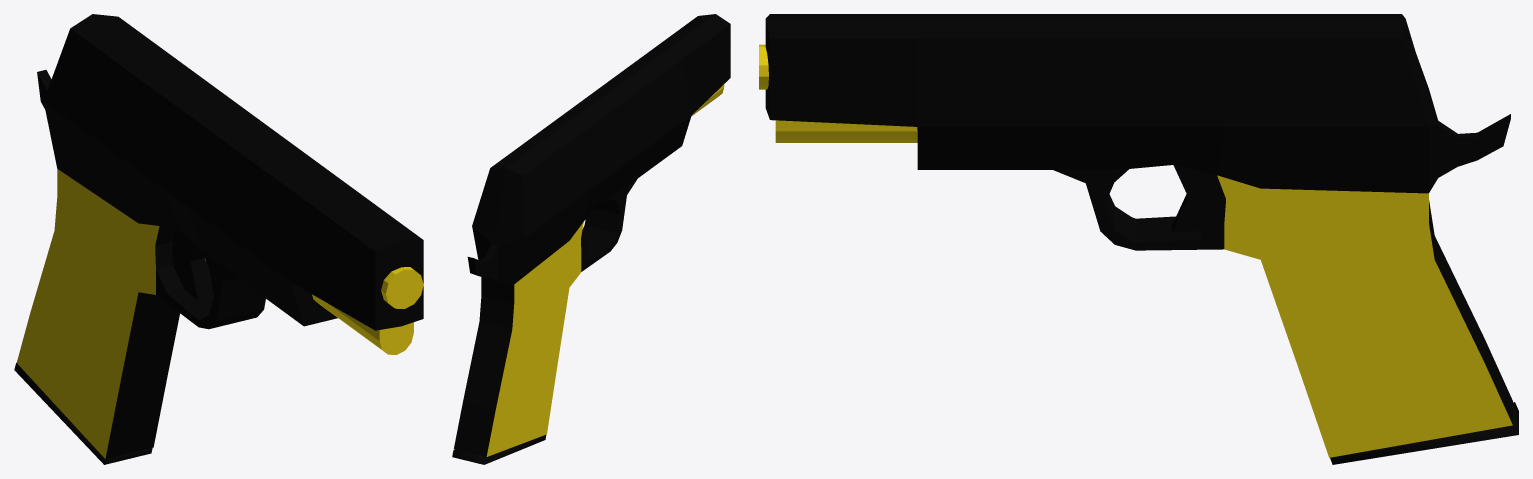
3 renders of one model, left to right at view 1: azimuth 30°, elevation 25°; view 2: azimuth 150°, elevation 25°; view 3: azimuth 270°, elevation 25°, orthographic. The views are drawn at different scales.
Parts seen in each view (by area): view 1: 1911, 1911_Mag; view 2: 1911, 1911_Mag; view 3: 1911, 1911_Mag.
Part boxes in pixels (bbox=[...]): 1911: bbox=[16, 14, 423, 458]; 1911_Mag: bbox=[14, 363, 152, 464]; 1911: bbox=[454, 14, 730, 456]; 1911_Mag: bbox=[452, 435, 546, 464]; 1911: bbox=[759, 14, 1512, 457]; 1911_Mag: bbox=[1330, 402, 1518, 464].
Bounding box in the file's own units: 0.0239 × 0.127 × 0.2013.
